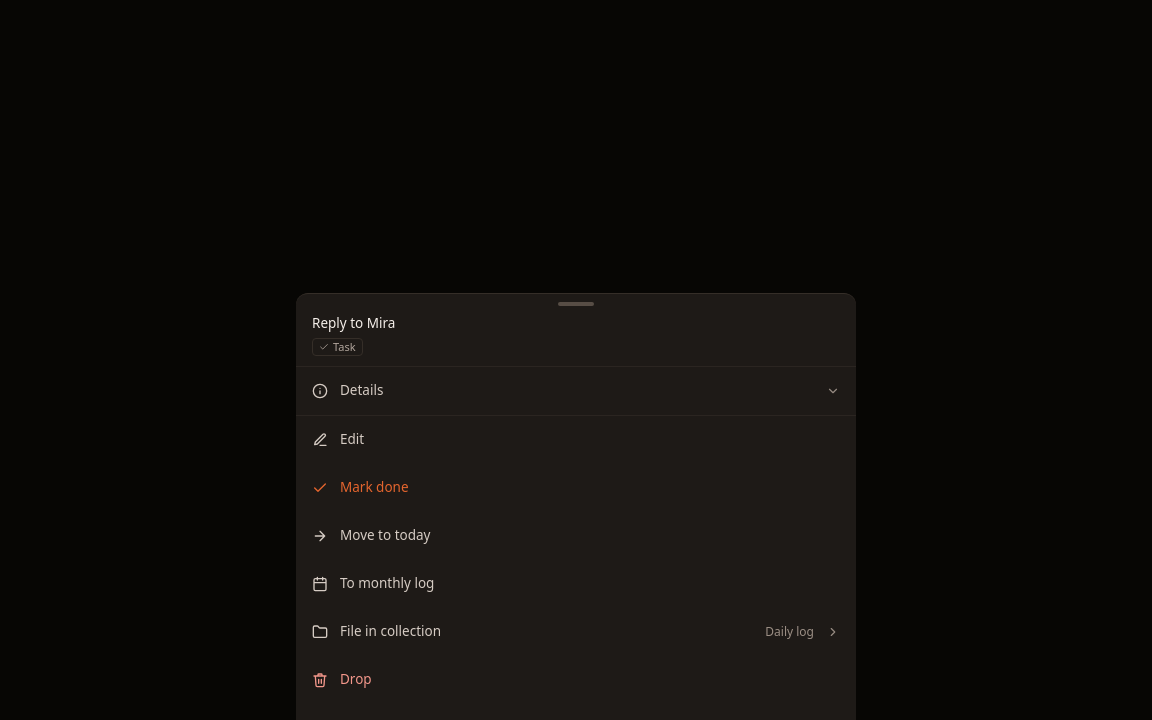
EntryActionSheet › keeps the read-only facts behind a Details disclosure
Click the heading "Details" at (362, 390), box x1=312 y1=381 x2=840 y2=399
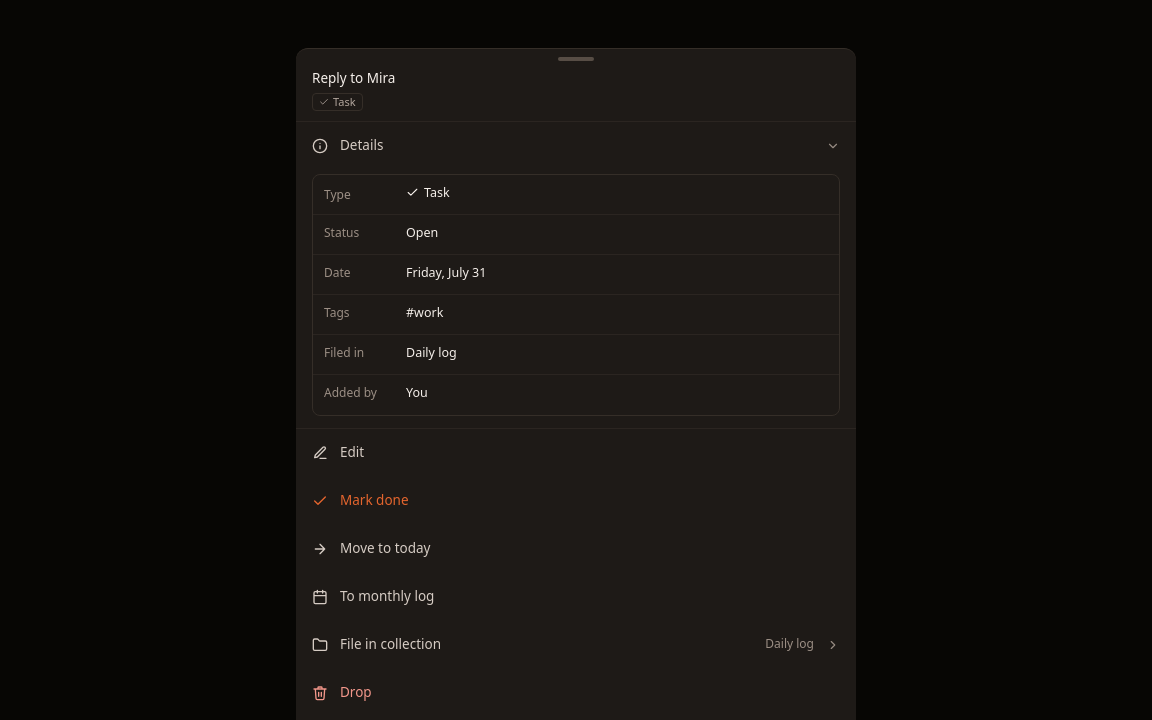
Expected: the text "Added by" is shown, x1=324 y1=384 x2=377 y2=401
Expected: the text "Filed in" is shown, x1=324 y1=344 x2=364 y2=361
